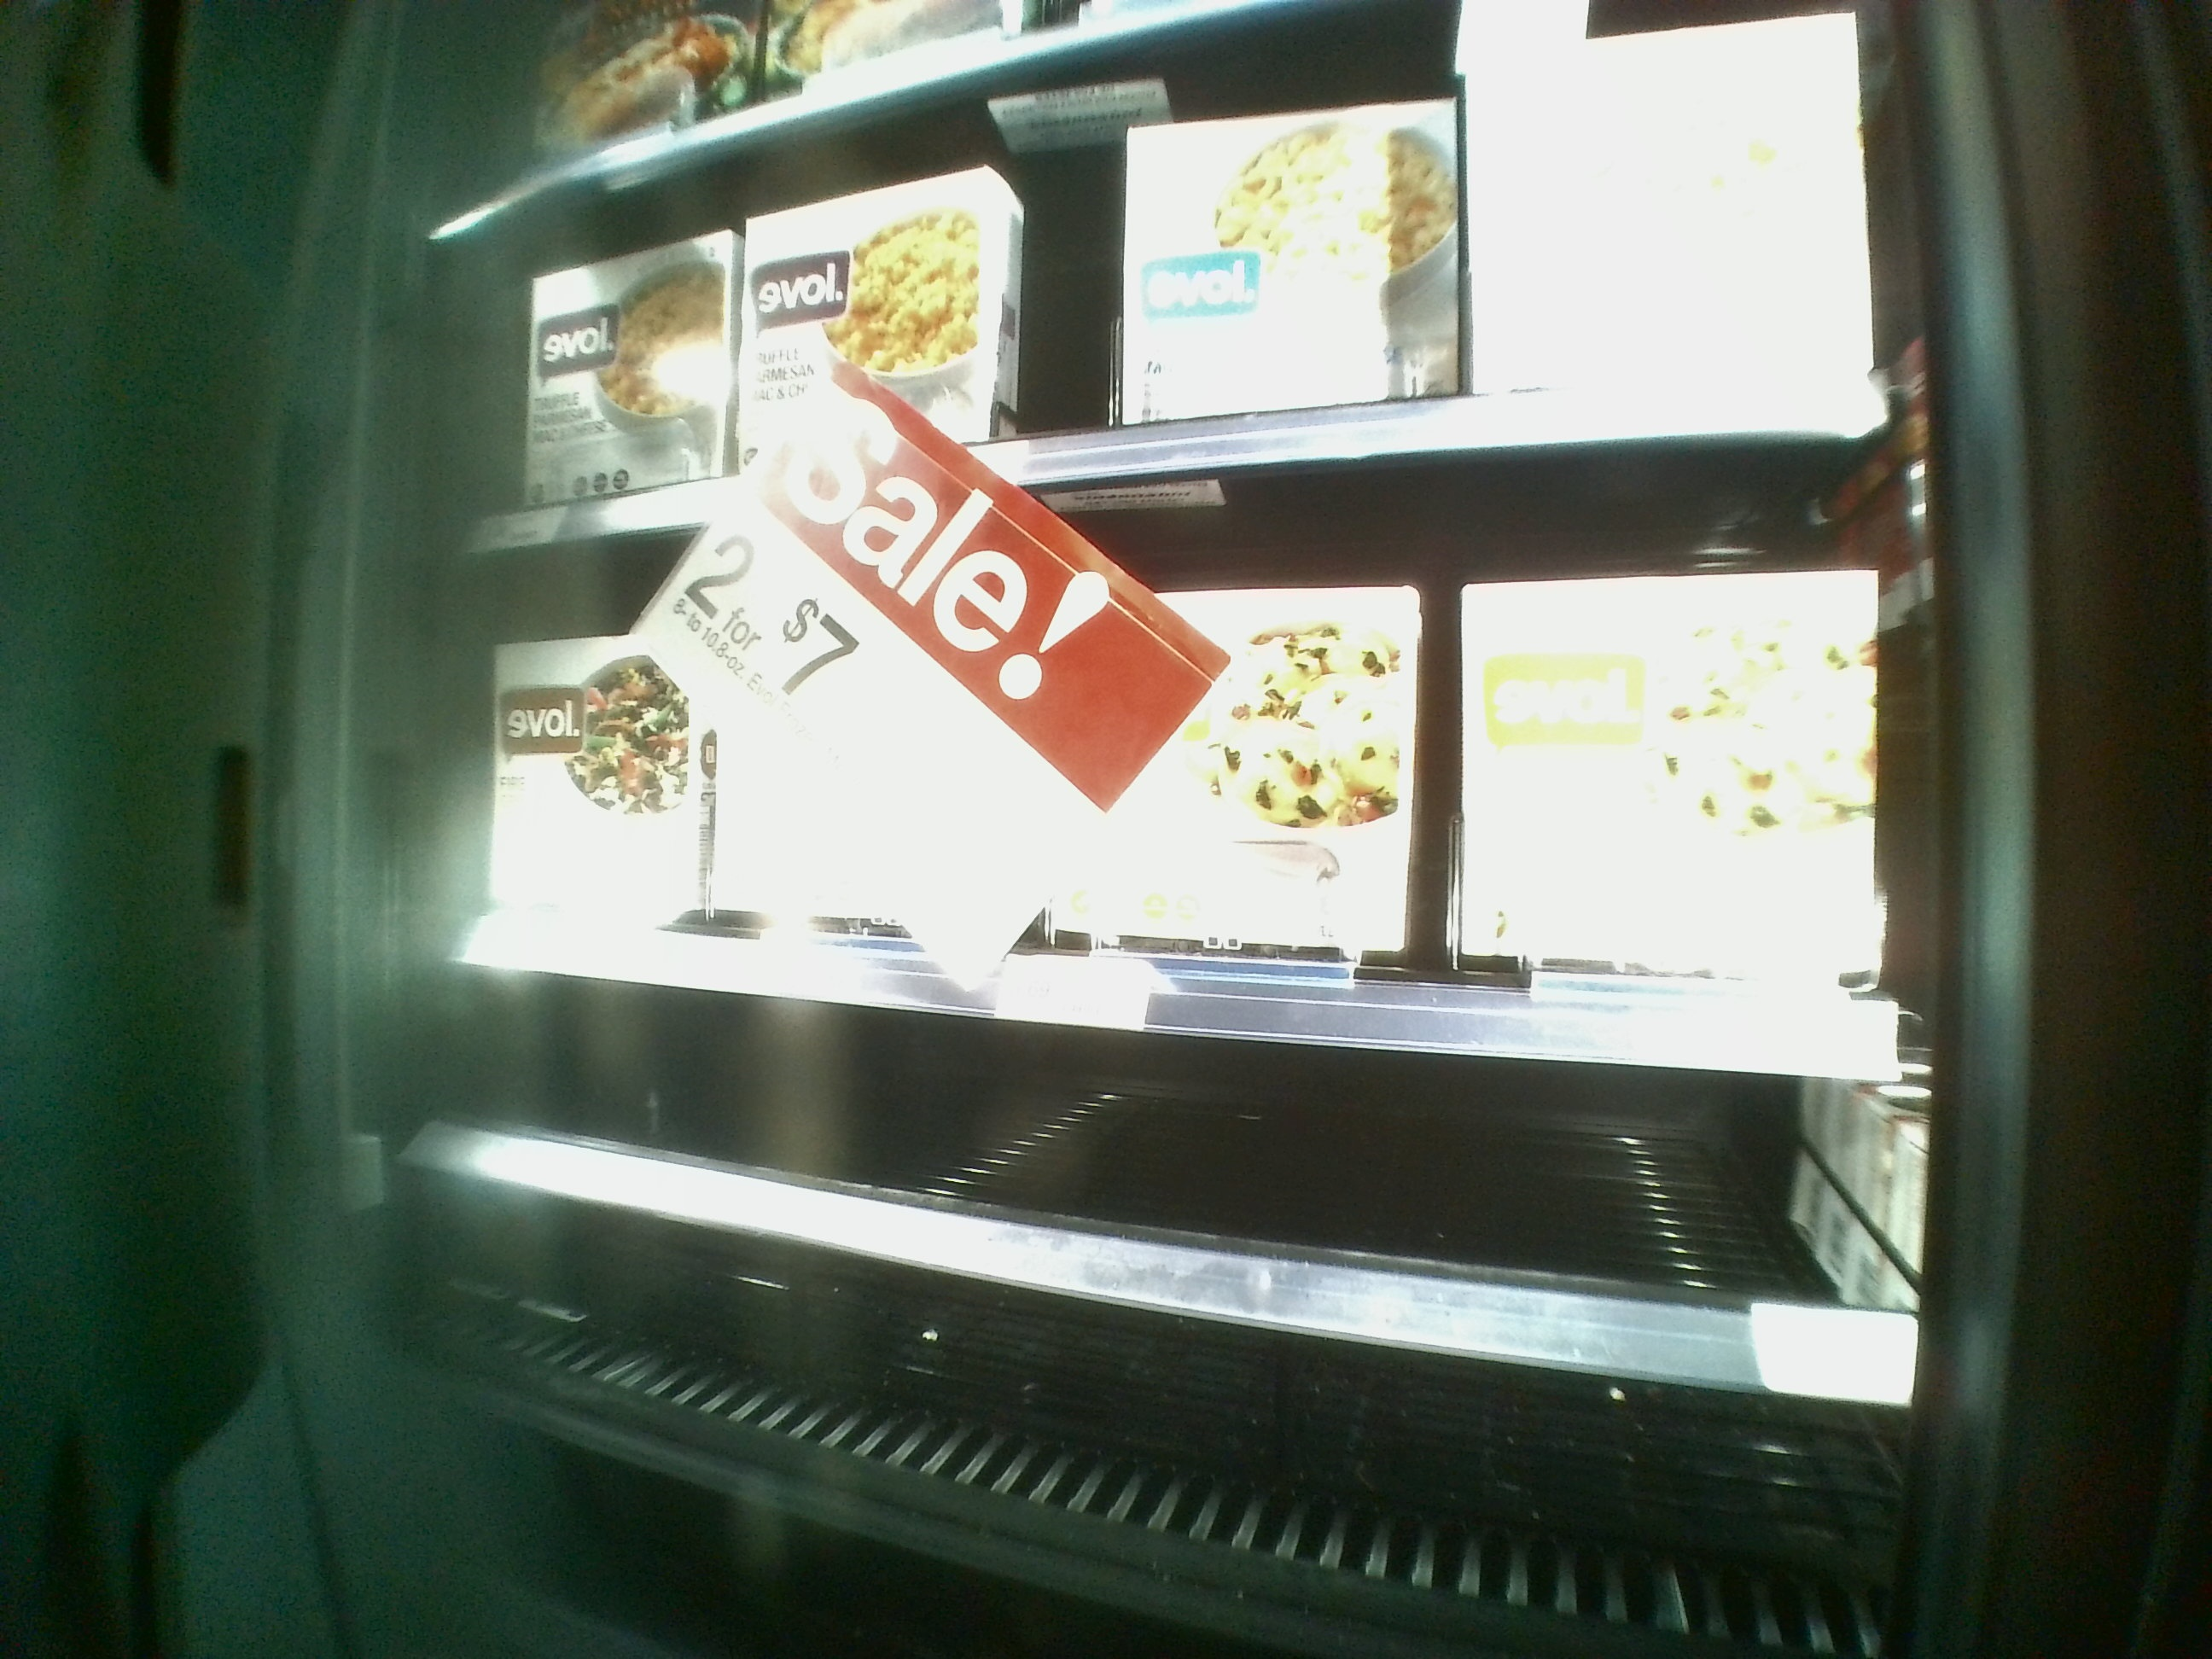shelf: (449, 490, 1911, 1068), (416, 1019, 1912, 1495), (469, 84, 1911, 538)
